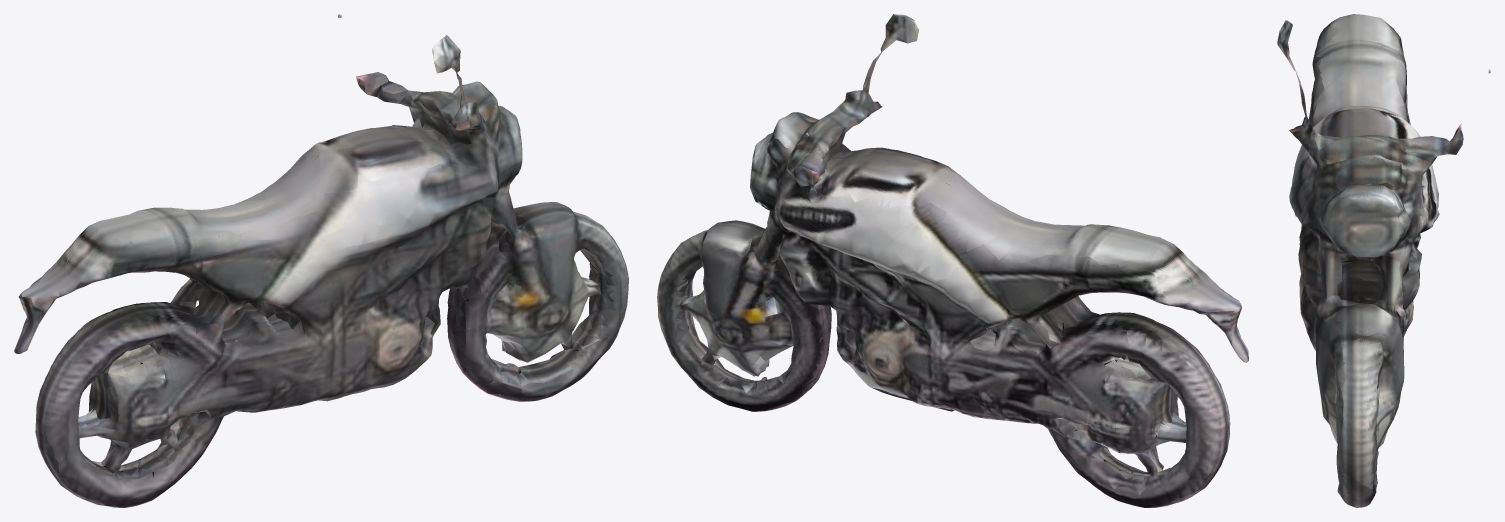
3 renders of one model, left to right at view 1: azimuth 30°, elevation 25°; view 2: azimuth 150°, elevation 25°; view 3: azimuth 270°, elevation 25°, orthographic. The views are drawn at different scales.
Parts seen in each view (by area): view 1: world; view 2: world; view 3: world.
Part boxes in pixels (bbox=[...]): world: bbox=[14, 14, 628, 507]; world: bbox=[657, 14, 1248, 507]; world: bbox=[1277, 14, 1490, 507].
Bounding box in the file's own units: 0.9809 × 0.6431 × 0.2971.
Materials: 1 (1 with a texture image).
